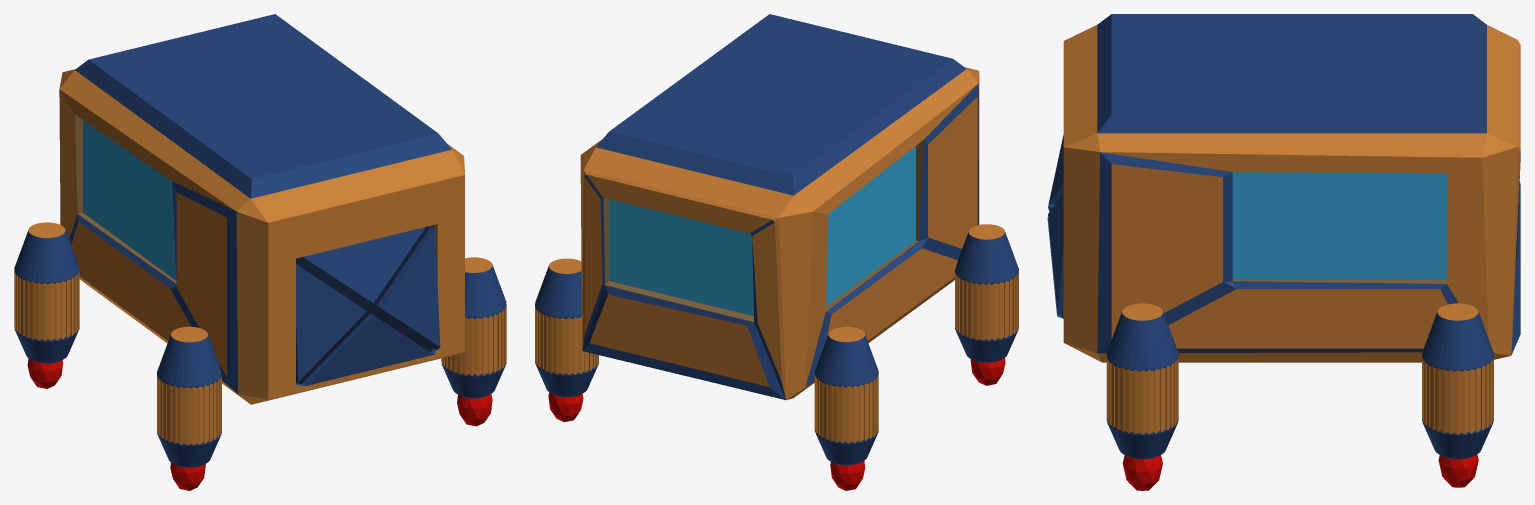
Rendered from SpaceShip.fbx.
The picture shows the model from 3 angles, left to right: view 1: azimuth 30°, elevation 25°; view 2: azimuth 150°, elevation 25°; view 3: azimuth 270°, elevation 25°; orthographic projection. The views are drawn at different scales.
Visible parts, largest first — view 1: Body, Door, Engine, Engine.003, Engine.001, Fire.002, Fire.001, Fire; view 2: Body, Engine, Engine.003, Engine.002, Fire.001, Fire.003, Fire; view 3: Body, Engine.001, Engine.002, Door, Fire.002, Fire.003.
Boxes of the visible parts, x1=… form: Body: x1=59, y1=14, x2=464, y2=404; Door: x1=296, y1=225, x2=440, y2=385; Engine: x1=14, y1=222, x2=79, y2=363; Engine.003: x1=157, y1=326, x2=221, y2=467; Engine.001: x1=441, y1=257, x2=506, y2=398; Fire.002: x1=457, y1=394, x2=492, y2=426; Fire.001: x1=27, y1=358, x2=63, y2=388; Fire: x1=170, y1=462, x2=205, y2=490; Body: x1=580, y1=14, x2=979, y2=400; Engine: x1=814, y1=326, x2=878, y2=465; Engine.003: x1=955, y1=224, x2=1018, y2=362; Engine.002: x1=535, y1=258, x2=598, y2=397; Fire.001: x1=830, y1=461, x2=865, y2=490; Fire.003: x1=548, y1=392, x2=583, y2=421; Fire: x1=970, y1=358, x2=1005, y2=385; Body: x1=1063, y1=14, x2=1520, y2=362; Engine.001: x1=1106, y1=303, x2=1178, y2=459; Engine.002: x1=1422, y1=303, x2=1493, y2=459; Door: x1=1047, y1=135, x2=1063, y2=318; Fire.002: x1=1122, y1=455, x2=1162, y2=490; Fire.003: x1=1438, y1=454, x2=1478, y2=487.
Bounding box in the file's own units: 336 × 297 × 365.
